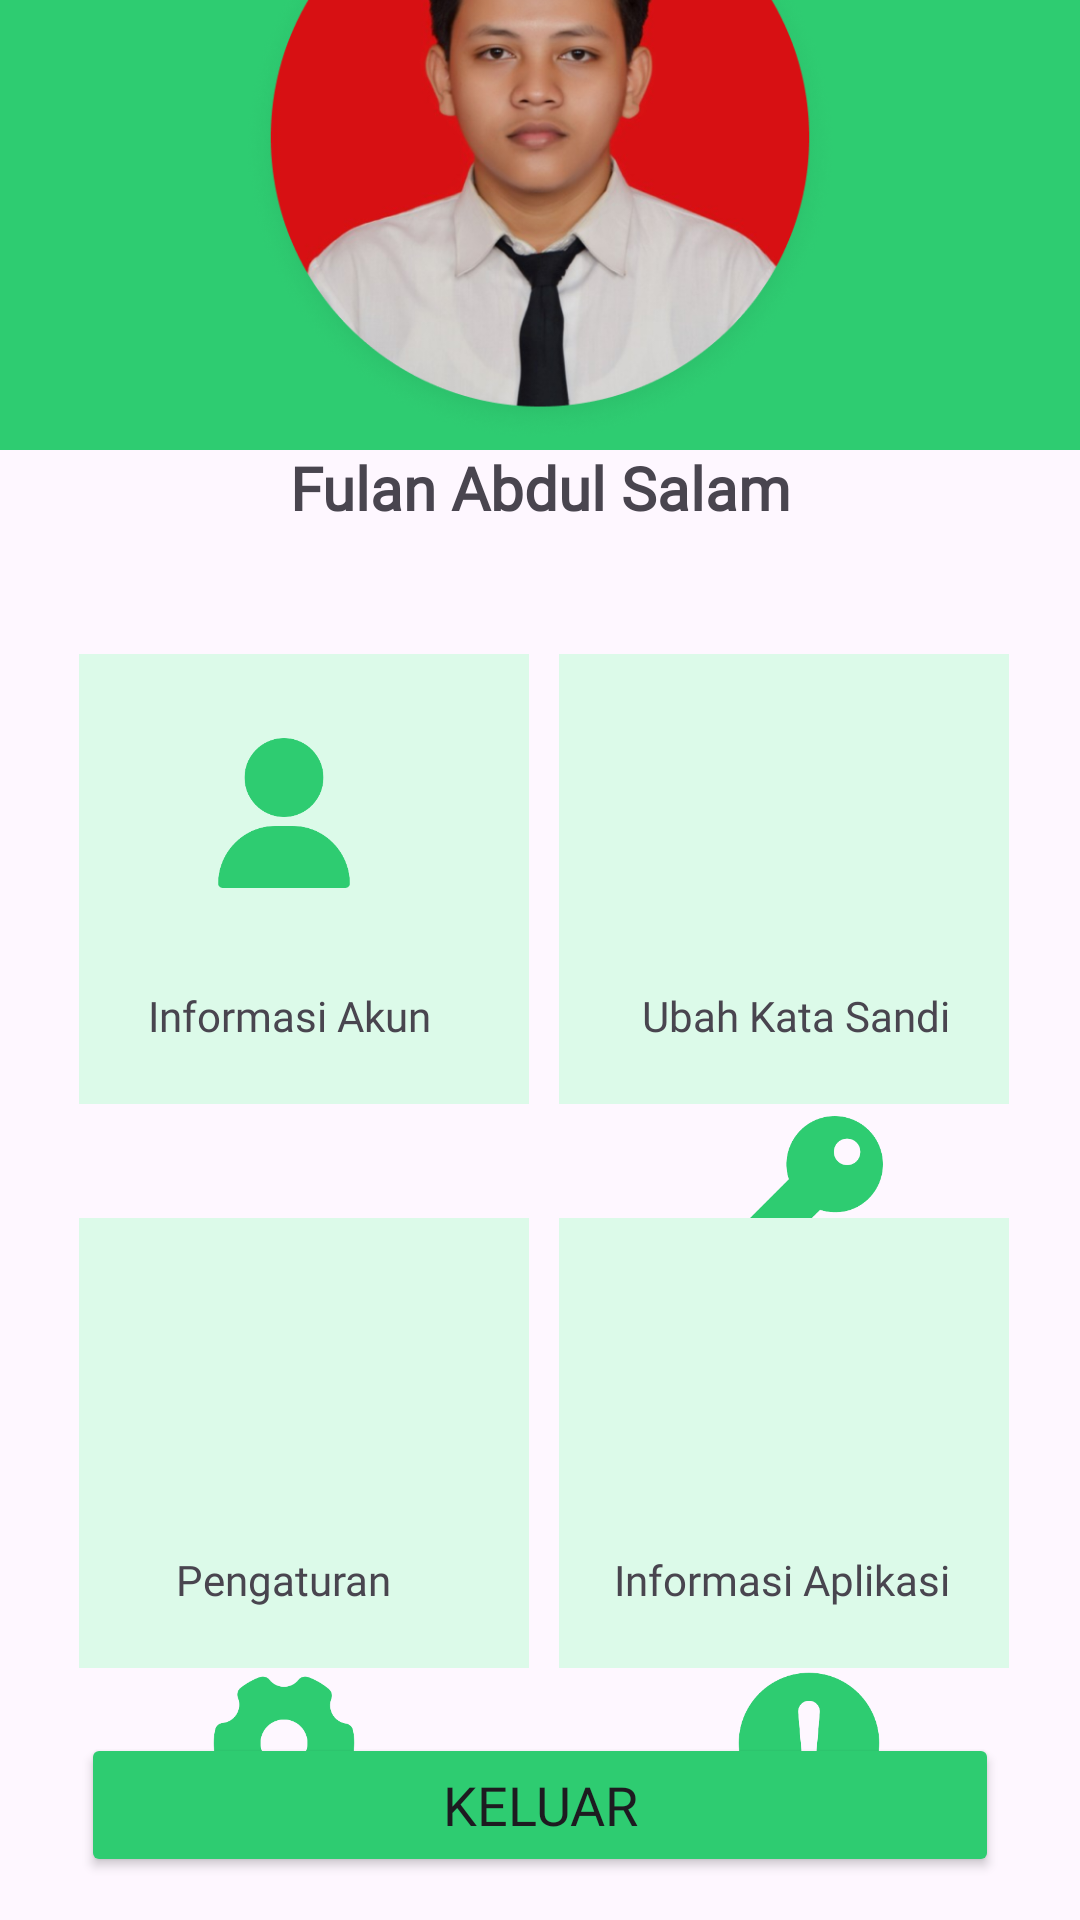

Screen size 1080×1920. Icon name, then its box in pixels as (x1, y1, x2, y2):
user: (218, 738, 350, 888)
